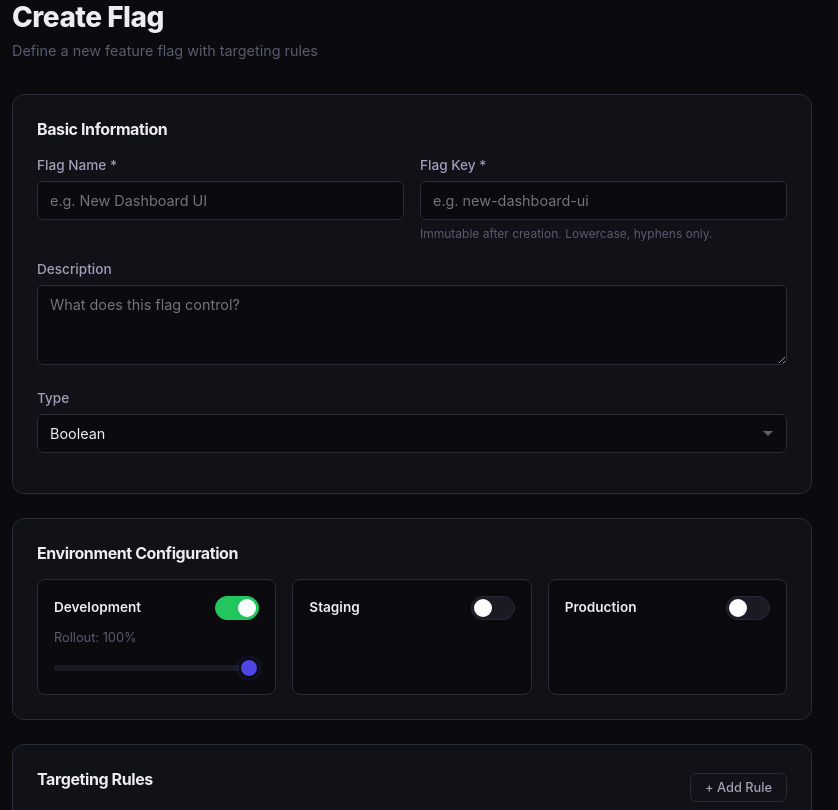
Test: FlagCreatePage › adds a targeting rule when Add Rule is clicked
This screenshot has width=838, height=810.
Click the button "+ Add Rule": (739, 787) [690,773,787,802]
(page scrolled)
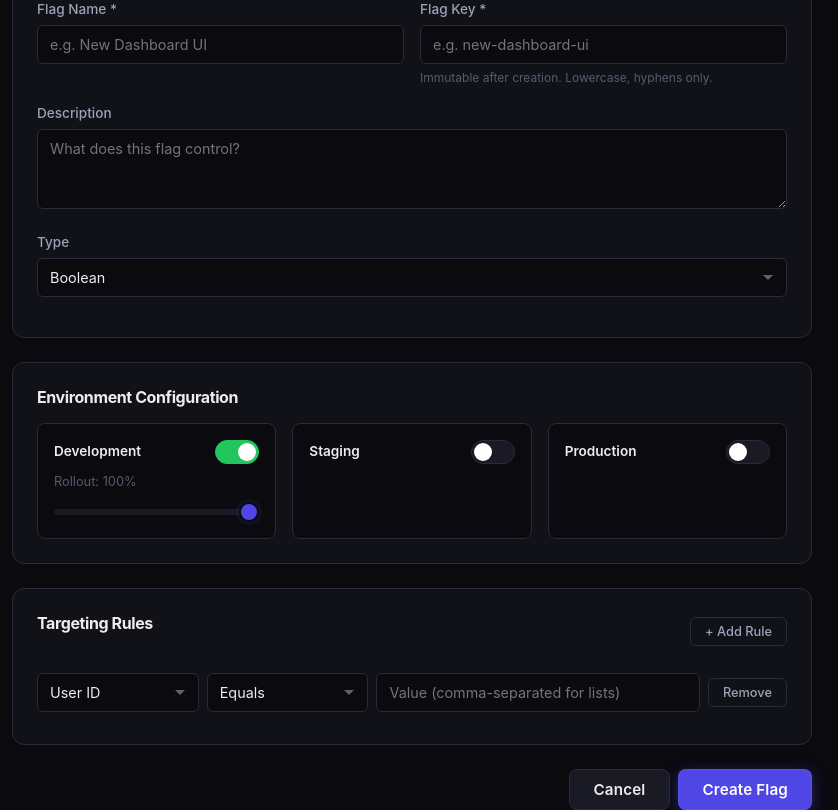
Result: the button "Remove" is shown at [708,678,787,707]
